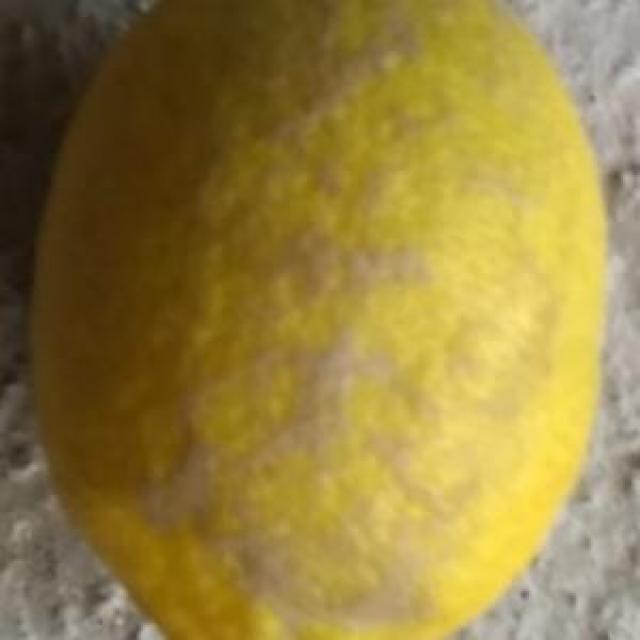lemon: (20, 1, 621, 640)
